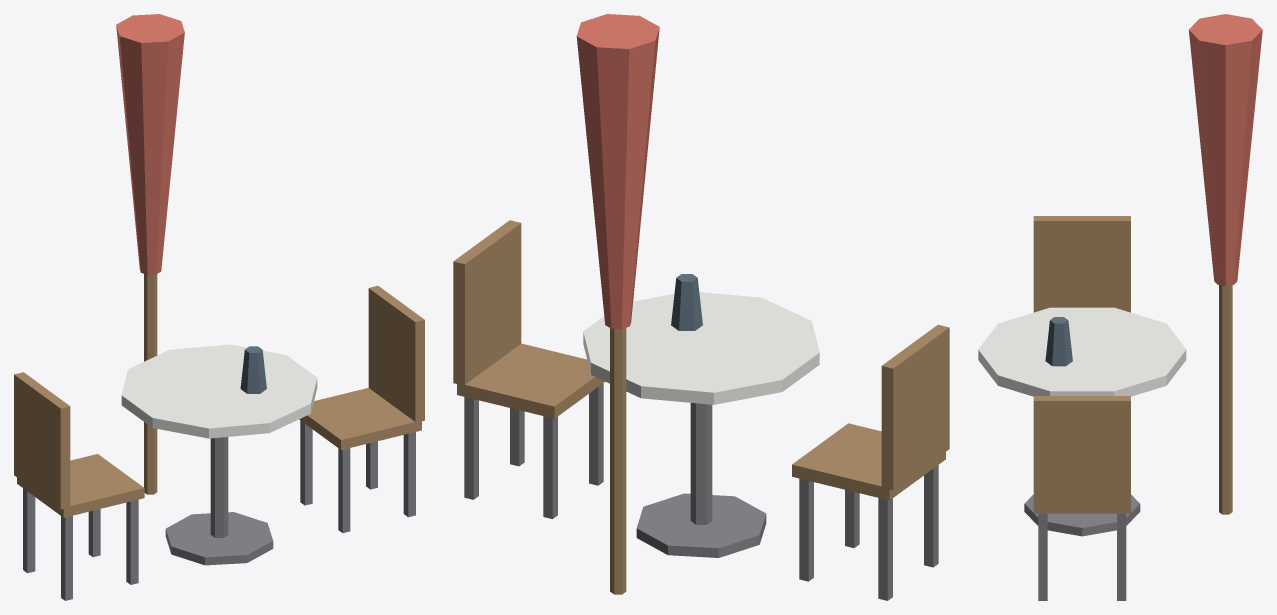
Rendered from VN_Mesa.fbx.
3 renders of one model, left to right at view 1: azimuth 30°, elevation 25°; view 2: azimuth 150°, elevation 25°; view 3: azimuth 270°, elevation 25°, orthographic. The views are drawn at different scales.
Parts seen in each view (by area): view 1: VN_Mesa; view 2: VN_Mesa; view 3: VN_Mesa.
Part boxes in pixels (<box>): VN_Mesa: <box>14,14,424,600</box>; VN_Mesa: <box>453,14,949,600</box>; VN_Mesa: <box>978,14,1262,600</box>.
Bounding box in the file's own units: 1.89 × 2.3 × 1.23.
